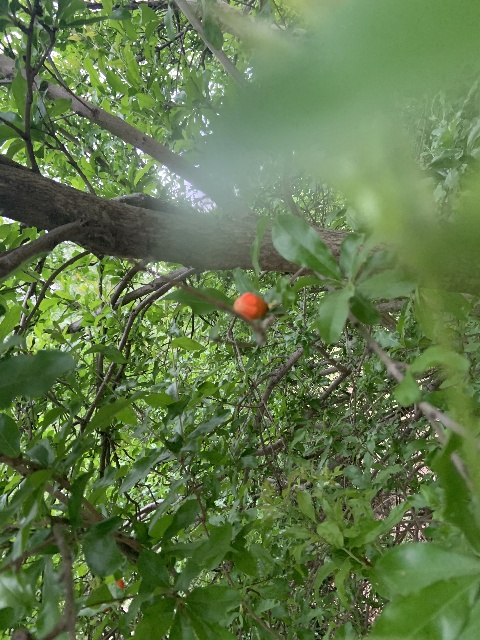bud: (233, 292, 267, 320)
